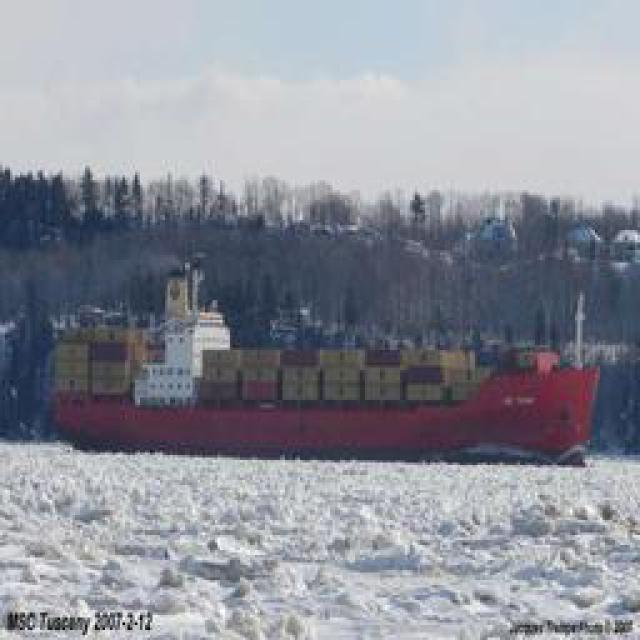Ship: (61, 340, 606, 458)
